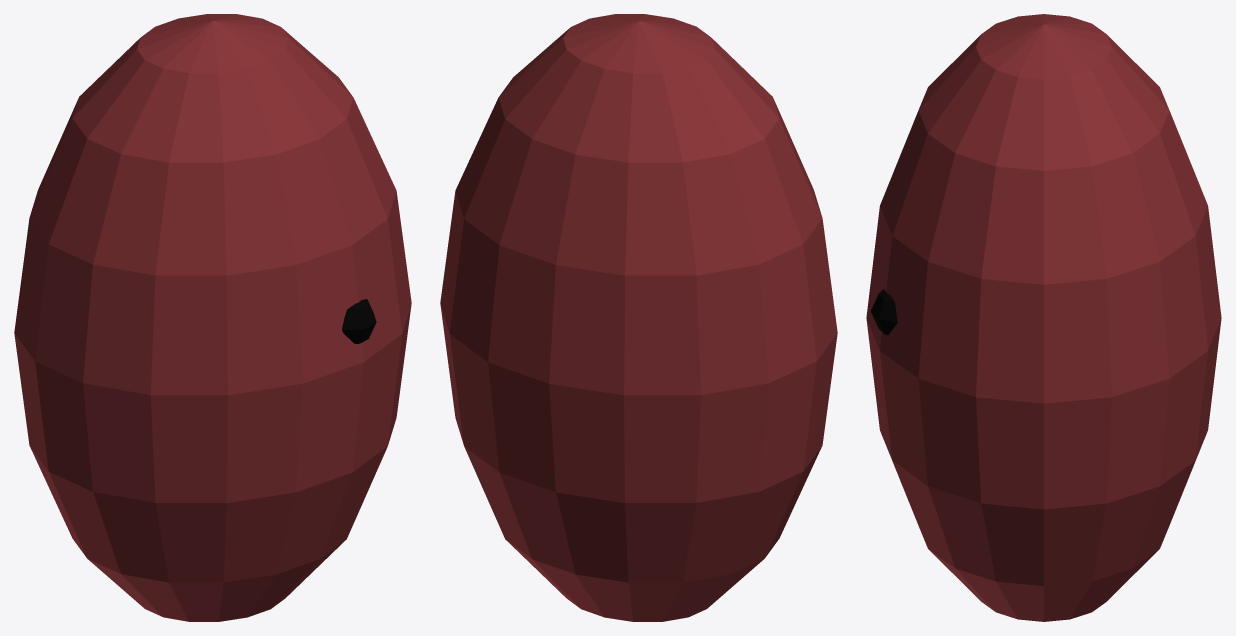
Rendered from Bean.fbx.
3 views of the same model, side by side, from view 1: azimuth 30°, elevation 25°; view 2: azimuth 150°, elevation 25°; view 3: azimuth 270°, elevation 25° (orthographic).
Parts seen in each view (by area): view 1: Sphere, Sphere.001; view 2: Sphere; view 3: Sphere, Sphere.001.
Part boxes in pixels (box(x1,y1,x2,y2)): Sphere: box(14, 14, 411, 621); Sphere.001: box(342, 299, 376, 343); Sphere: box(440, 14, 837, 621); Sphere: box(866, 14, 1221, 621); Sphere.001: box(870, 289, 897, 334).
Size of the model in its own units: 229 by 365 by 200.
